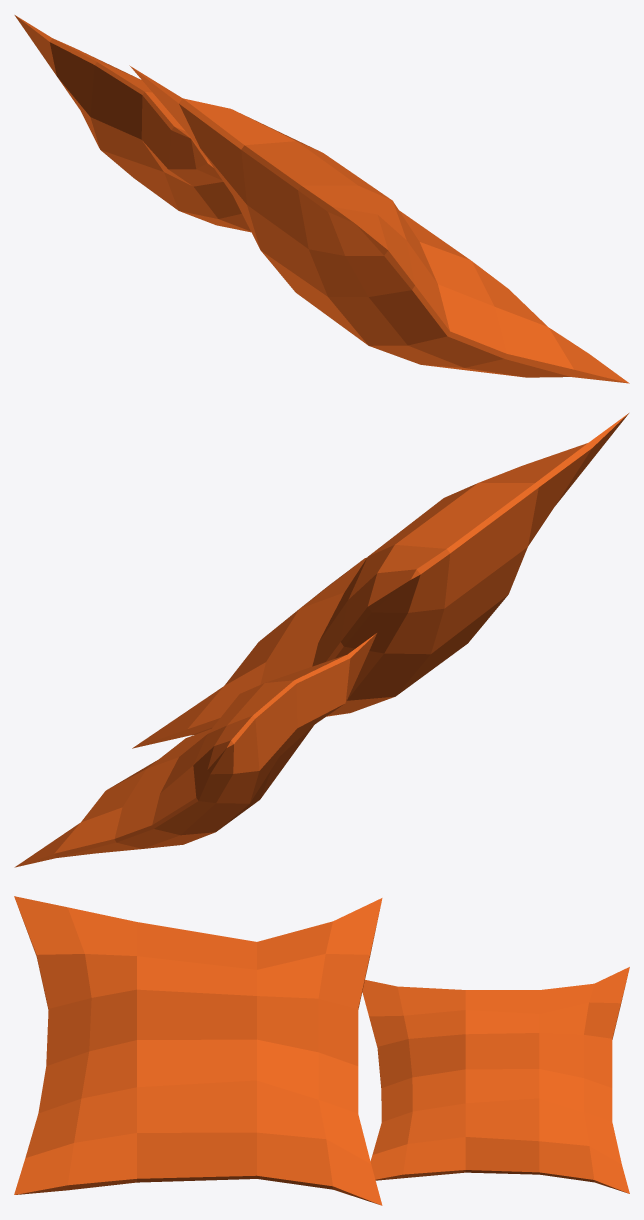
Rendered from Living_Room_pillows.fbx.
The picture shows the model from 3 angles, top to bottom: view 1: azimuth 30°, elevation 25°; view 2: azimuth 150°, elevation 25°; view 3: azimuth 270°, elevation 25°; orthographic projection. The views are drawn at different scales.
Parts seen in each view (by area): view 1: Living_Room_pillows; view 2: Living_Room_pillows; view 3: Living_Room_pillows.
Boxes of the visible parts, x1,y1,x2,y2 form: Living_Room_pillows: [14, 15, 629, 383]; Living_Room_pillows: [14, 413, 628, 867]; Living_Room_pillows: [14, 896, 629, 1205].
Bounding box in the file's own units: 39.56 × 32.79 × 91.57.
